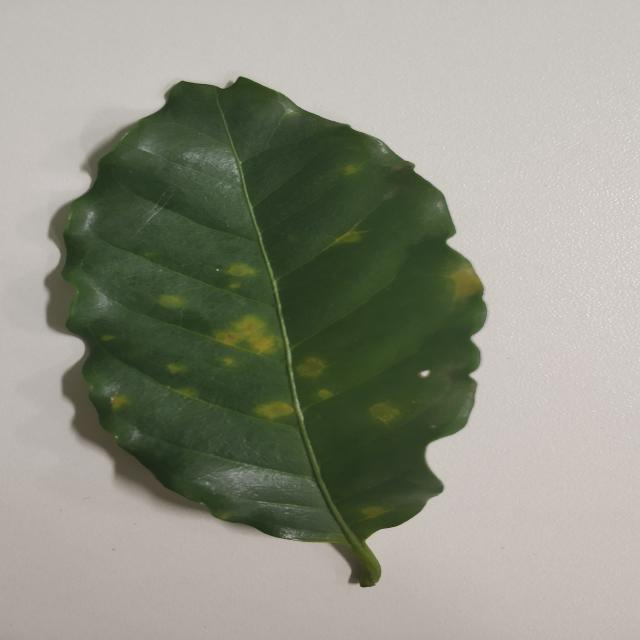Enfermedad-Roya: (44, 77, 489, 591)
